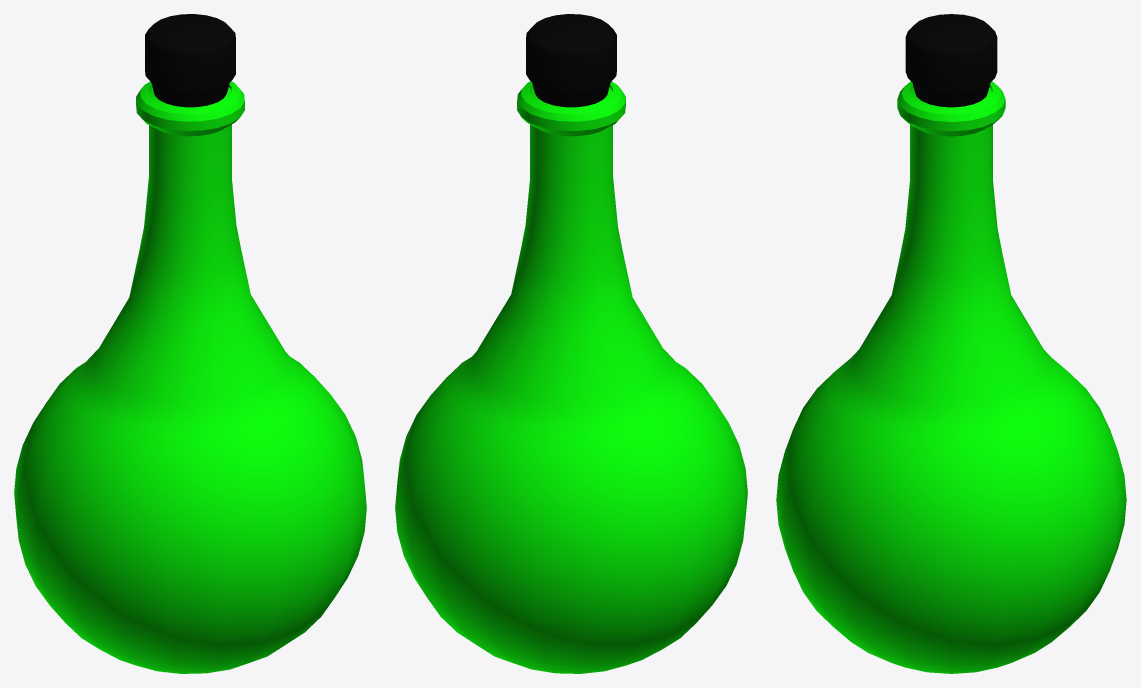
The model's file is greenp.glb.
3 renders of one model, left to right at view 1: azimuth 30°, elevation 25°; view 2: azimuth 150°, elevation 25°; view 3: azimuth 270°, elevation 25°, orthographic.
Visible parts, largest first — view 1: pSphere1, pCylinder1; view 2: pSphere1, pCylinder1; view 3: pSphere1, pCylinder1.
Boxes of the visible parts, box(x1,y1,x2,y2) form: pSphere1: box(14, 81, 366, 673); pCylinder1: box(145, 14, 235, 107); pSphere1: box(395, 81, 747, 673); pCylinder1: box(526, 14, 616, 107); pSphere1: box(776, 81, 1126, 673); pCylinder1: box(905, 14, 997, 107).
Size of the model in its own units: 0.0644 by 0.1249 by 0.0633.
